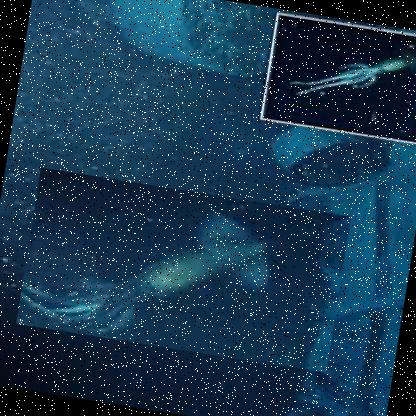colossal_squid: (13, 167, 350, 373)
